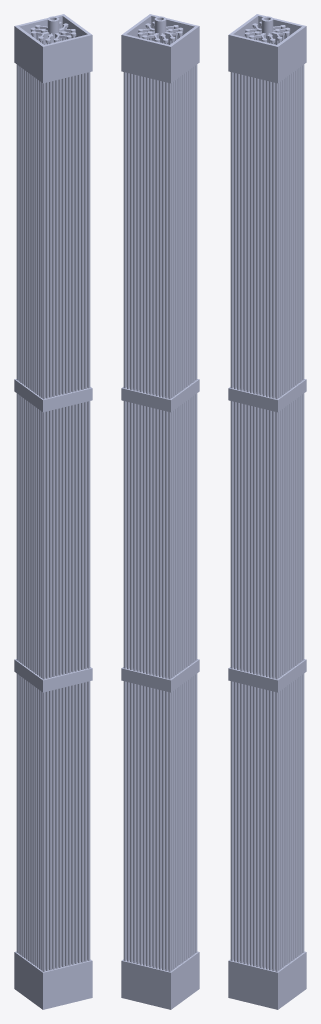
File: Fuel Bundle No Pellets FBX.fbx
3 views of the same model, side by side, from view 1: azimuth 30°, elevation 25°; view 2: azimuth 150°, elevation 25°; view 3: azimuth 330°, elevation 25° (orthographic).
Visible parts, largest first — view 1: Body_1_21, Body_1_230, Body_1_37, Body_1_52, Body_1_119, Body_1_159, Body_1_187, Body_1_93, Body_1_104, Body_1_174, Body_1_22, Body_1_65 (+36 smaller); view 2: Body_1_21, Body_1_216, Body_1, Body_1_38, Body_1_105, Body_1_149, Body_1_175, Body_1_79, Body_1_94, Body_1_160, Body_1_22, Body_1_53 (+36 smaller); view 3: Body_1_21, Body_1_37, Body_1_230, Body_1_78, Body_1_104, Body_1_148, Body_1_215, Body_1_174, Body_1_93, Body_1_159, Body_1_22, Body_1_133 (+36 smaller).
Part boxes in pixels (<box>): Body_1_21: <box>14,14,92,83</box>; Body_1_230: <box>87,72,90,960</box>; Body_1_37: <box>42,83,45,971</box>; Body_1_52: <box>45,82,48,970</box>; Body_1_119: <box>61,78,64,967</box>; Body_1_159: <box>71,76,74,964</box>; Body_1_187: <box>77,74,80,963</box>; Body_1_93: <box>55,80,58,968</box>; Body_1_104: <box>58,79,61,967</box>; Body_1_174: <box>74,75,77,963</box>; Body_1_22: <box>14,951,92,1009</box>; Body_1_65: <box>49,81,51,970</box>; Body_1_21: <box>121,14,199,83</box>; Body_1_216: <box>123,72,126,960</box>; Body_1: <box>168,83,171,971</box>; Body_1_38: <box>165,82,168,970</box>; Body_1_105: <box>149,78,152,967</box>; Body_1_149: <box>139,76,142,964</box>; Body_1_175: <box>133,74,136,963</box>; Body_1_79: <box>155,80,158,968</box>; Body_1_94: <box>152,79,155,967</box>; Body_1_160: <box>136,75,139,963</box>; Body_1_22: <box>121,951,199,1009</box>; Body_1_53: <box>162,81,164,970</box>; Body_1_21: <box>228,14,306,83</box>; Body_1_37: <box>230,72,233,960</box>; Body_1_230: <box>275,83,278,971</box>; Body_1_78: <box>240,74,243,963</box>; Body_1_104: <box>246,76,249,964</box>; Body_1_148: <box>256,78,259,967</box>; Body_1_215: <box>272,82,275,970</box>; Body_1_174: <box>262,80,265,968</box>; Body_1_93: <box>243,75,246,963</box>; Body_1_159: <box>259,79,262,967</box>; Body_1_22: <box>228,951,306,1009</box>; Body_1_133: <box>253,77,255,966</box>.
Bounding box in the file's own units: 0.2159 × 0.2159 × 4.06.
